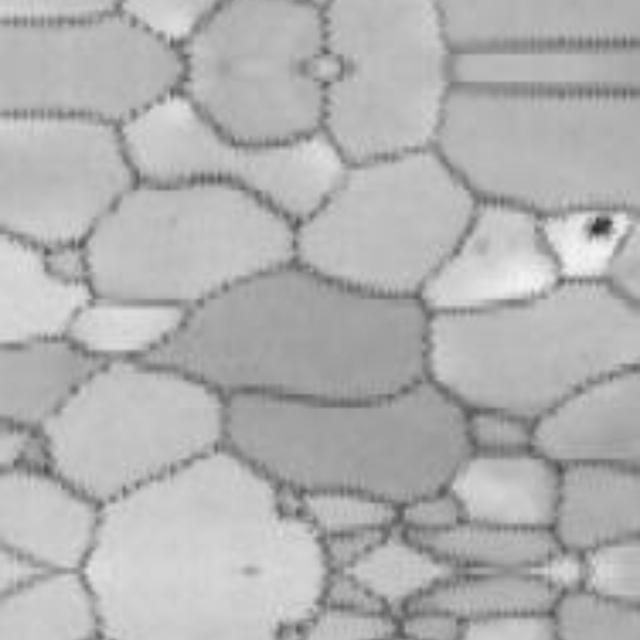good_void: (581, 217, 615, 245)
